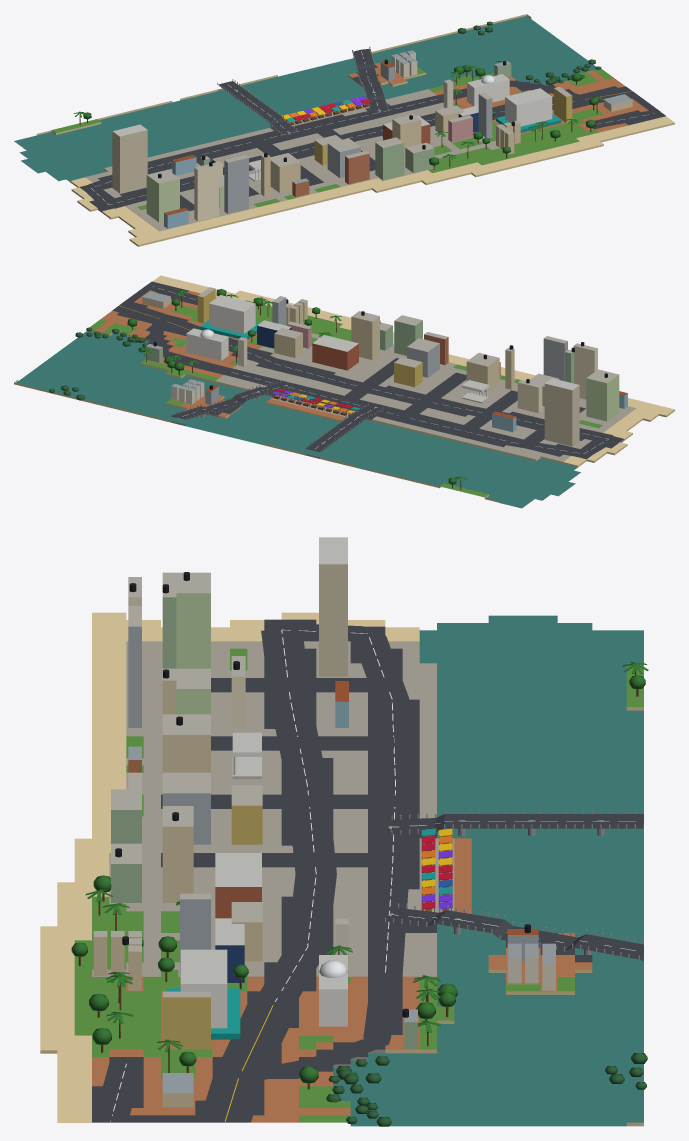
File: district_downtown.glb
3 renders of one model, top to bottom at view 1: azimuth 30°, elevation 25°; view 2: azimuth 150°, elevation 25°; view 3: azimuth 270°, elevation 25°, orthographic. The views are drawn at different scales.
Visible parts, largest first — view 1: Terrain-col, Buildings-col, Roads-col, Landmarks-col, Trees, MarketStalls-col; view 2: Terrain-col, Buildings-col, Roads-col, Landmarks-col, Trees, MarketStalls-col; view 3: Terrain-col, Roads-col, Buildings-col, Landmarks-col, Trees, MarketStalls-col.
Part boxes in pixels (left/top/right/bottom): Terrain-col: left=14, top=14, right=674, bottom=246; Buildings-col: left=146, top=50, right=632, bottom=228; Roads-col: left=83, top=46, right=665, bottom=208; Landmarks-col: left=112, top=74, right=560, bottom=193; Trees: left=73, top=21, right=603, bottom=169; MarketStalls-col: left=282, top=96, right=370, bottom=125; Terrain-col: left=14, top=275, right=674, bottom=508; Buildings-col: left=142, top=287, right=627, bottom=432; Roads-col: left=112, top=281, right=615, bottom=457; Landmarks-col: left=186, top=295, right=579, bottom=446; Trees: left=49, top=289, right=467, bottom=489; MarketStalls-col: left=271, top=388, right=359, bottom=416; Terrain-col: left=40, top=612, right=643, bottom=1126; Roads-col: left=93, top=623, right=643, bottom=1122; Buildings-col: left=93, top=572, right=555, bottom=1107; Landmarks-col: left=168, top=537, right=347, bottom=1039; Trees: left=71, top=662, right=648, bottom=1126; MarketStalls-col: left=421, top=828, right=452, bottom=912.
Size of what is drawn, in the model's own units: 282 by 32.92 by 141.
